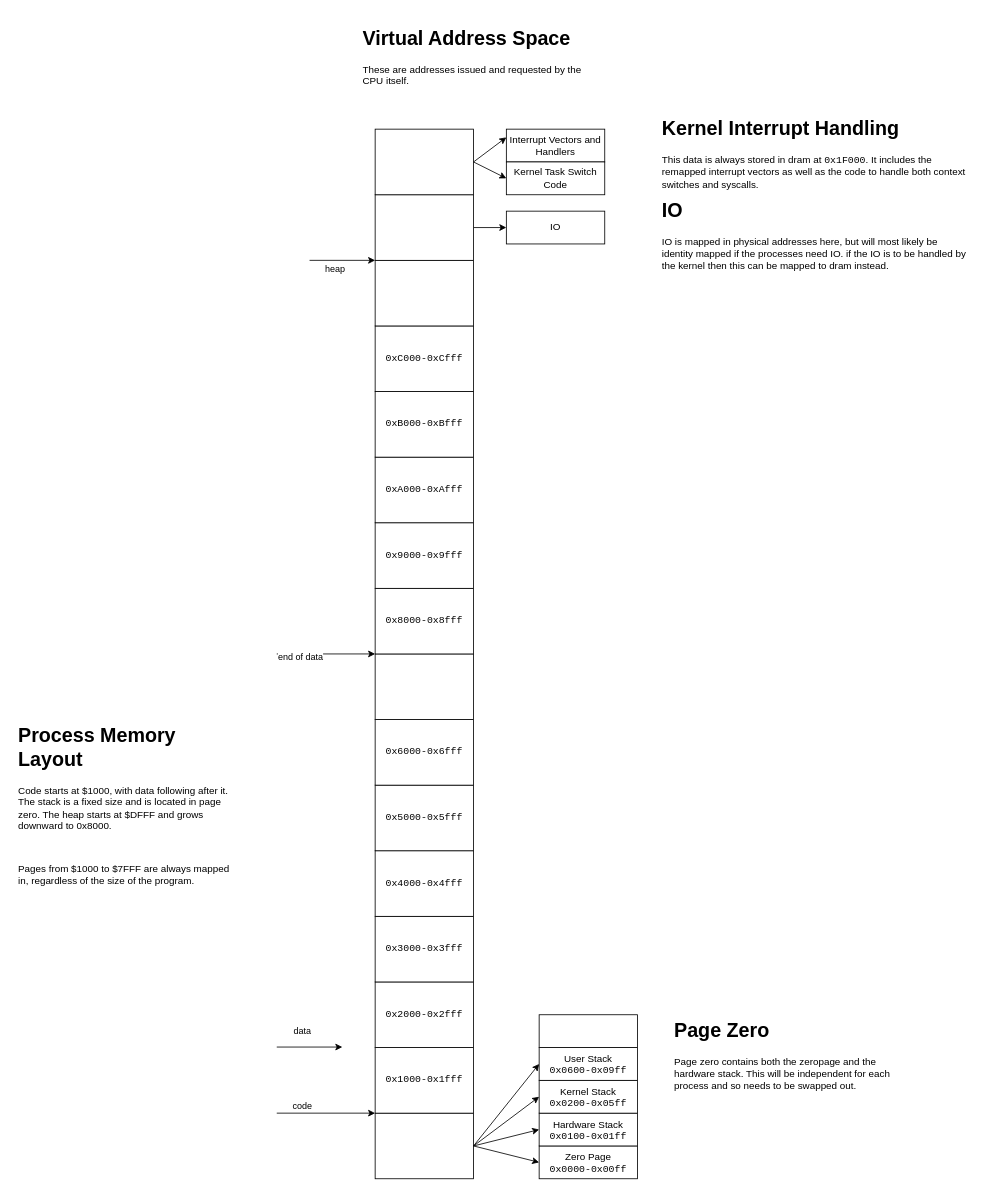
Some shapes in this 987 by 1193 pixel diagram are drawn without their labels. The shapes that lost their labels are listed below. From the top down, each one's centre as x and y in pixels, then its label:
At pixel 424 161: "0xF000-0xFfff".
At pixel 424 227: "0xE000-0xEfff".
At pixel 424 293: "0xD000-0xDfff".
At pixel 424 686: "0x7000-0x7fff".
At pixel 588 1031: "PCB".
At pixel 424 1145: "0x0000-0x0fff".
